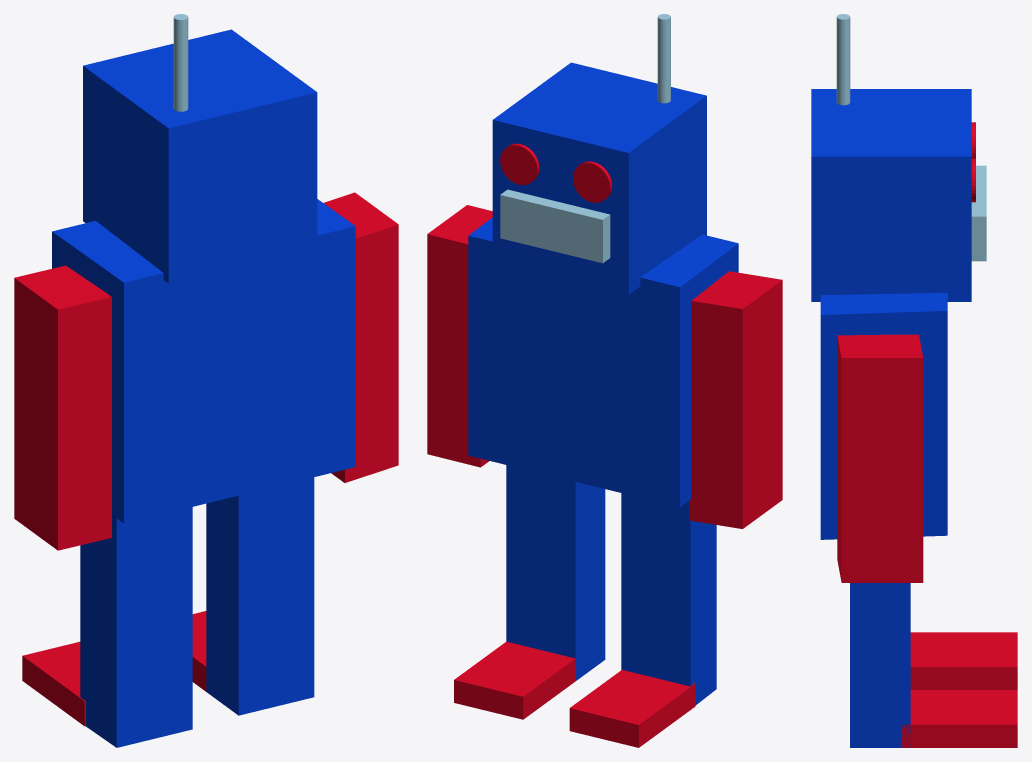
The model's file is Robot.fbx.
3 views of the same model, side by side, from view 1: azimuth 30°, elevation 25°; view 2: azimuth 150°, elevation 25°; view 3: azimuth 270°, elevation 25° (orthographic). The views are drawn at different scales.
Parts seen in each view (by area): view 1: Cube.001; view 2: Cube.001; view 3: Cube.001.
Boxes of the visible parts, bbox=[...] form: Cube.001: bbox=[14, 14, 398, 747]; Cube.001: bbox=[427, 14, 782, 747]; Cube.001: bbox=[811, 14, 1017, 747].
Bounding box in the file's own units: 225 × 451 × 125.
